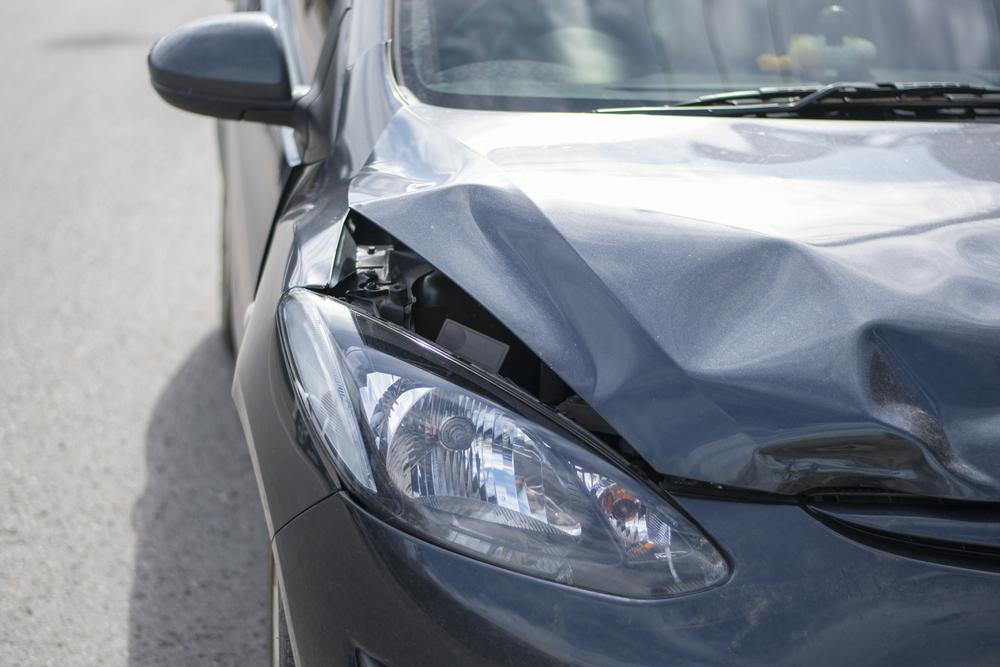dent: (350, 122, 1000, 505)
